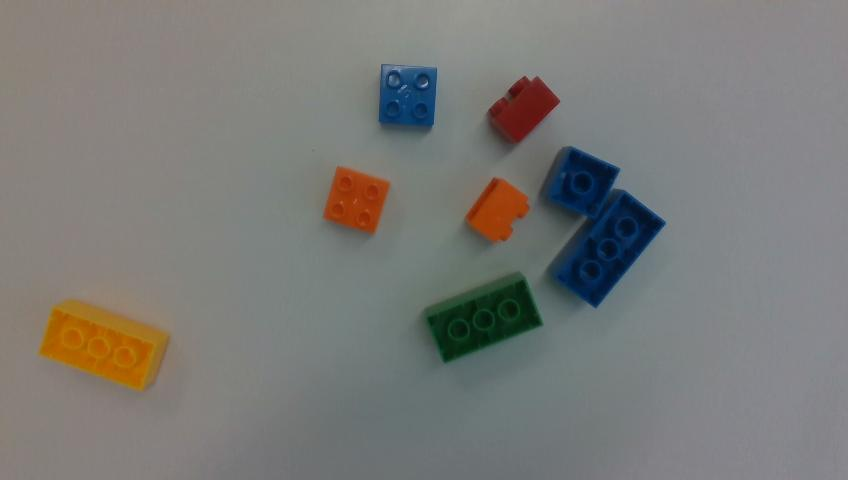2x2_blue: (541, 146, 619, 217), (379, 64, 436, 129)
2x2_orange: (324, 167, 389, 233), (467, 177, 529, 242)
2x2_red: (488, 77, 559, 143)
4x2_blue: (551, 191, 665, 306)
4x2_green: (425, 272, 542, 362)
4x2_yellow: (39, 300, 168, 390)
